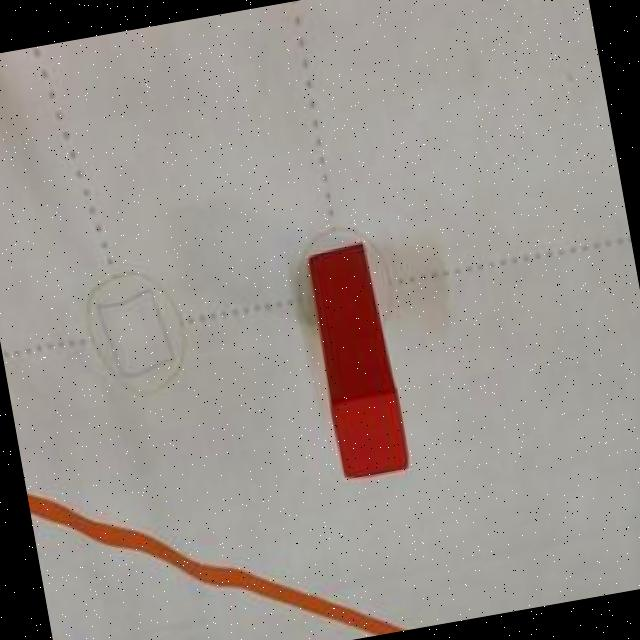redbox: (302, 239, 409, 483)
